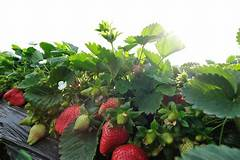Fresa: (97, 118, 132, 157), (51, 102, 86, 136), (2, 84, 29, 108)
